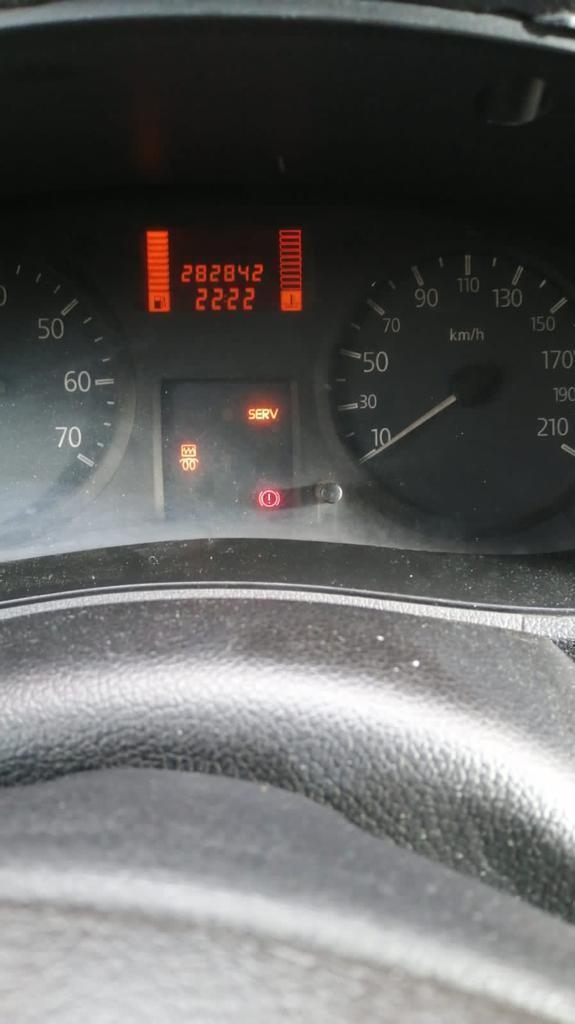2: (193, 287, 208, 311), (241, 286, 255, 311), (226, 286, 239, 311), (209, 286, 222, 311), (250, 262, 264, 282), (180, 263, 193, 282), (208, 263, 221, 282)
4: (237, 262, 250, 281)
8: (194, 263, 207, 282), (222, 263, 235, 282)
X: (223, 292, 226, 304)
odometer: (134, 220, 309, 319)
